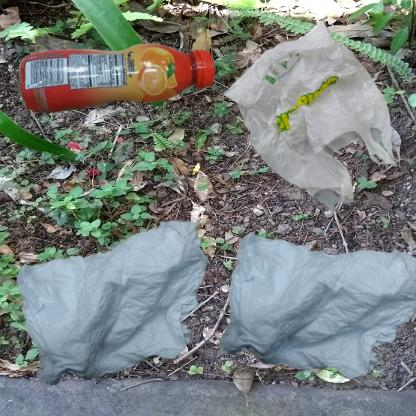bolsa: (213, 10, 411, 219)
botella: (10, 10, 246, 165)
papel: (10, 213, 239, 401), (213, 213, 416, 409)
